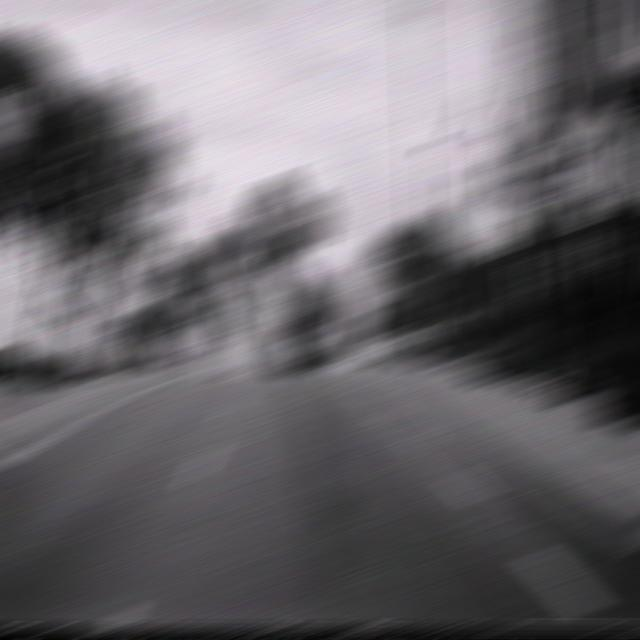stop_sign: (367, 287, 394, 306), (188, 322, 214, 340)
